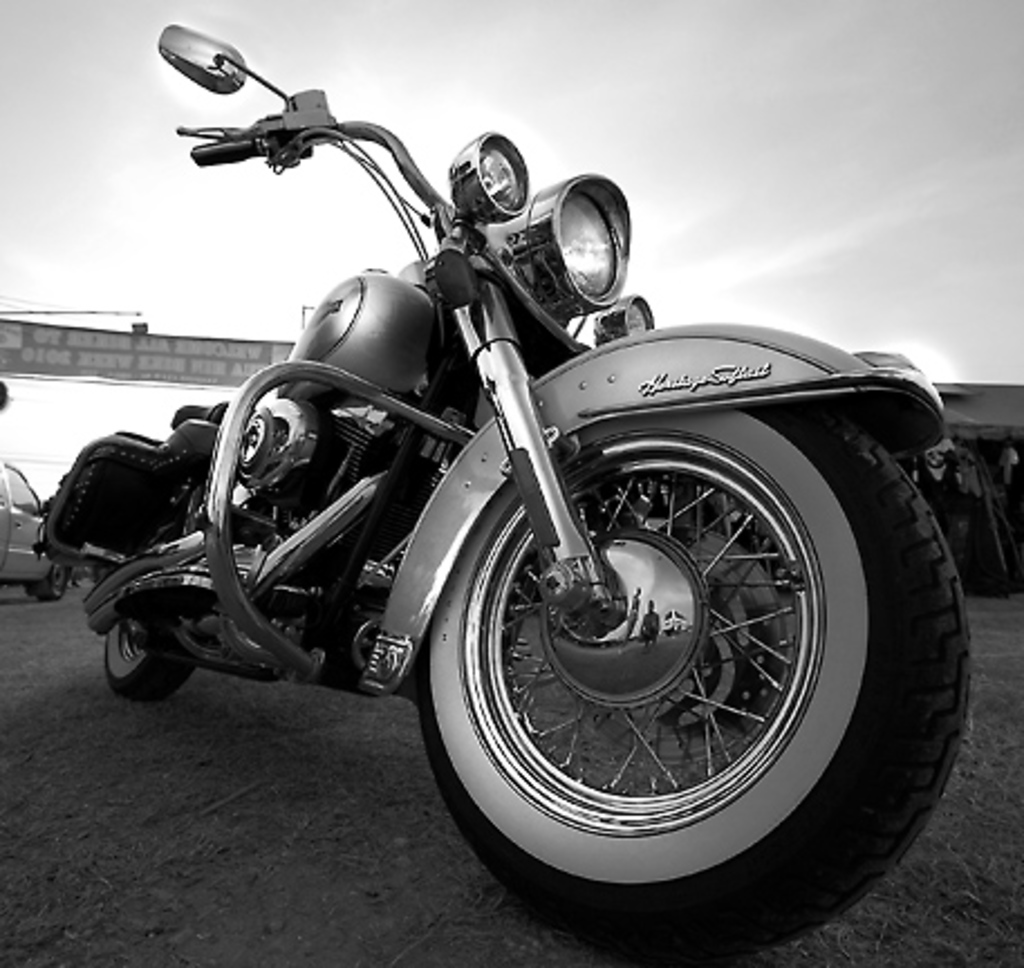Motorcycle: (44, 20, 972, 965)
